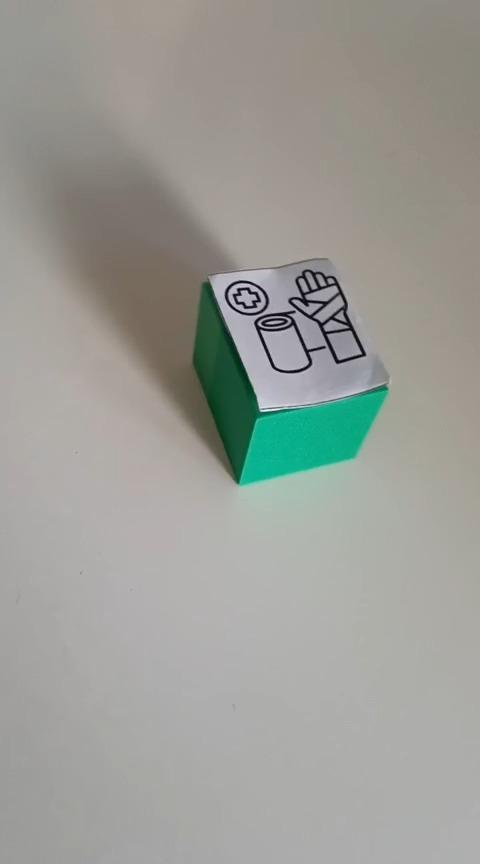Bandages: (191, 255, 391, 485)
